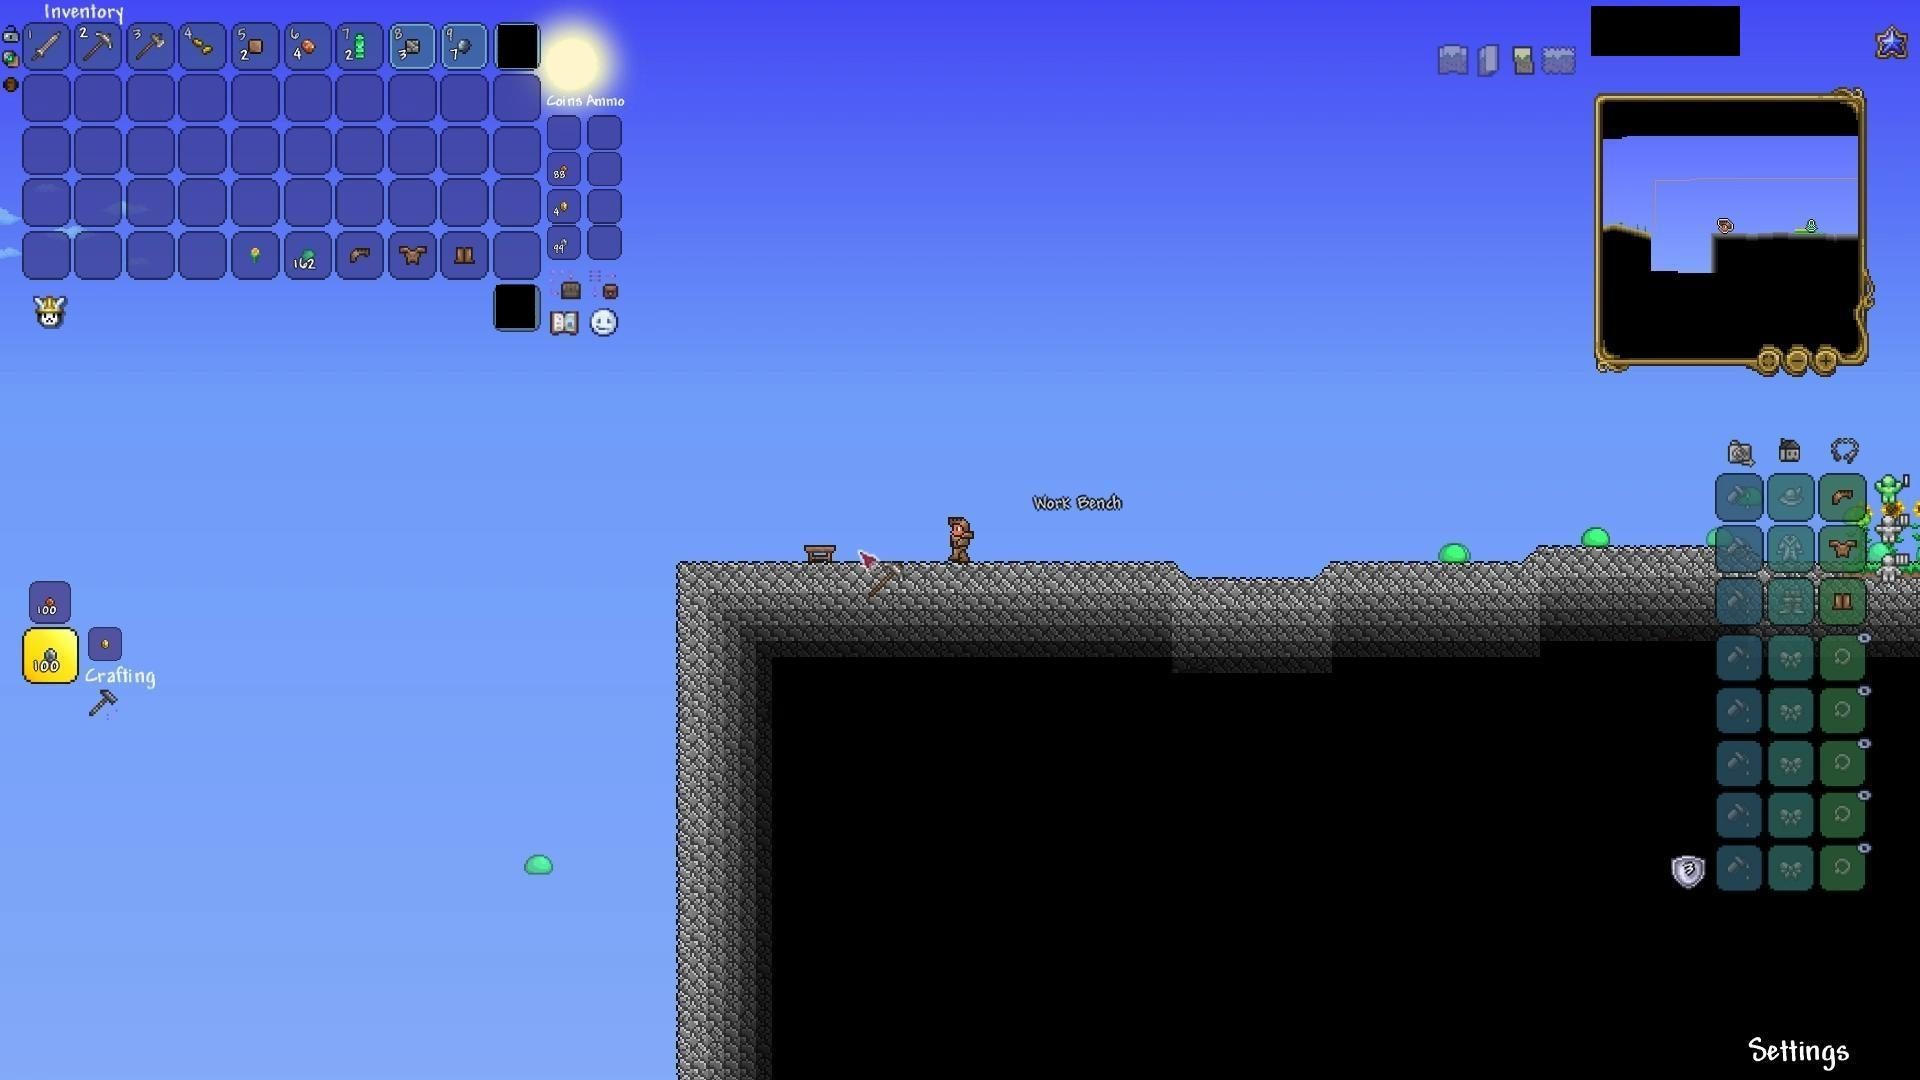breastplate: (397, 241, 429, 262), (1832, 537, 1859, 558)
helmet: (1828, 484, 1857, 509), (345, 243, 375, 268)
legs: (1833, 588, 1858, 615), (452, 243, 477, 266)
slime: (524, 849, 556, 880), (1578, 520, 1613, 549), (1437, 537, 1472, 564)
workbench: (804, 543, 837, 566)
